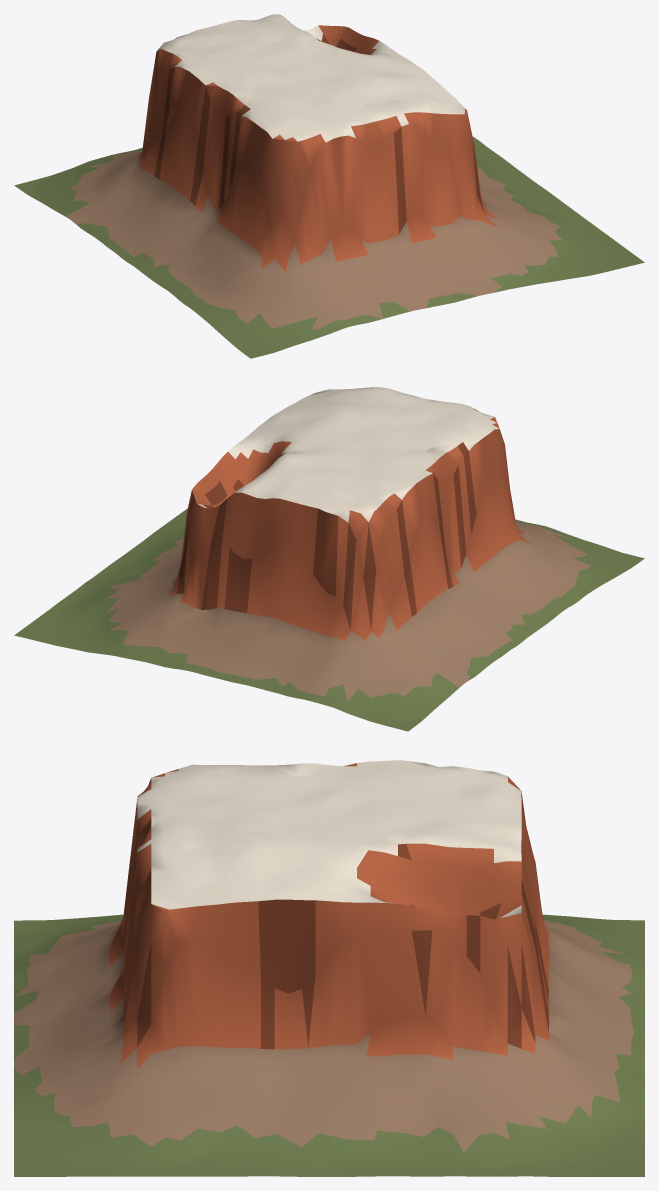
Rendered from landmark-mesa-low.glb.
3 views of the same model, one above another, from view 1: azimuth 30°, elevation 25°; view 2: azimuth 150°, elevation 25°; view 3: azimuth 270°, elevation 25° (orthographic). The views are drawn at different scales.
Visible parts, largest first — view 1: mesa.001; view 2: mesa.001; view 3: mesa.001.
Boxes of the visible parts, x1=… form: mesa.001: x1=14, y1=14, x2=644, y2=358; mesa.001: x1=14, y1=387, x2=644, y2=731; mesa.001: x1=14, y1=760, x2=644, y2=1176.
Bounding box in the file's own units: 2.53 × 1 × 2.63.
